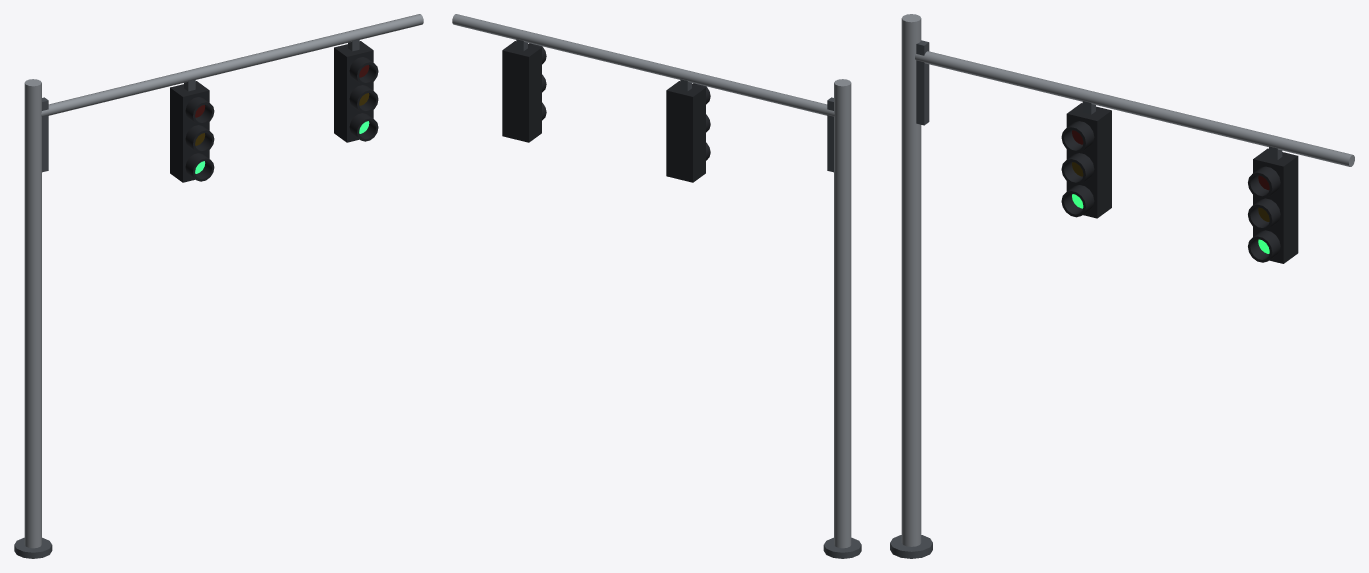
File: semaforo-braco-verde.glb
The picture shows the model from 3 angles, left to right: view 1: azimuth 30°, elevation 25°; view 2: azimuth 150°, elevation 25°; view 3: azimuth 330°, elevation 25°; orthographic projection. The views are drawn at different scales.
Visible parts, largest first — view 1: Poste, Braco, Caixas, Viseiras; view 2: Poste, Caixas, Braco; view 3: Poste, Braco, Caixas, Viseiras.
Part boxes in pixels (x1=…): Poste: x1=14, y1=79, x2=52, y2=558; Braco: x1=41, y1=14, x2=423, y2=172; Caixas: x1=170, y1=39, x2=373, y2=182; Viseiras: x1=185, y1=57, x2=378, y2=181; Poste: x1=823, y1=79, x2=861, y2=558; Caixas: x1=502, y1=39, x2=705, y2=182; Braco: x1=452, y1=14, x2=834, y2=172; Poste: x1=890, y1=14, x2=932, y2=558; Braco: x1=915, y1=40, x2=1354, y2=166; Caixas: x1=1066, y1=101, x2=1298, y2=263; Viseiras: x1=1061, y1=121, x2=1280, y2=262.
Size of the model in its own units: 5.42 by 6 by 0.54.
